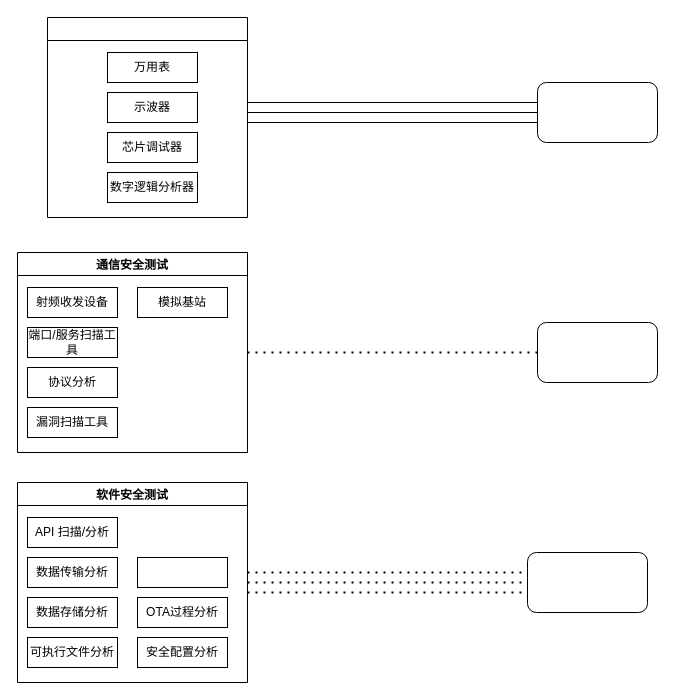
The diagram is 675 pixels wide and 700 high, and some of its shapes have lost their labels. The shapes that lost their labels are listed below. From the top down, each one's box as (x1, y1, x2, y2) in pixels, then its label:
(46, 16, 248, 218): 硬件安全测试
(536, 82, 658, 142): 域控制器/ECU类硬件被测实体
(536, 322, 658, 382): 具有通信功能或总线接口的被测实体（如T-Box、IVI、TPMS等）
(526, 552, 648, 612): 含有较多代码、数据的被测实体（如含有MCU、SoC的域控制器、网关、IVI）
